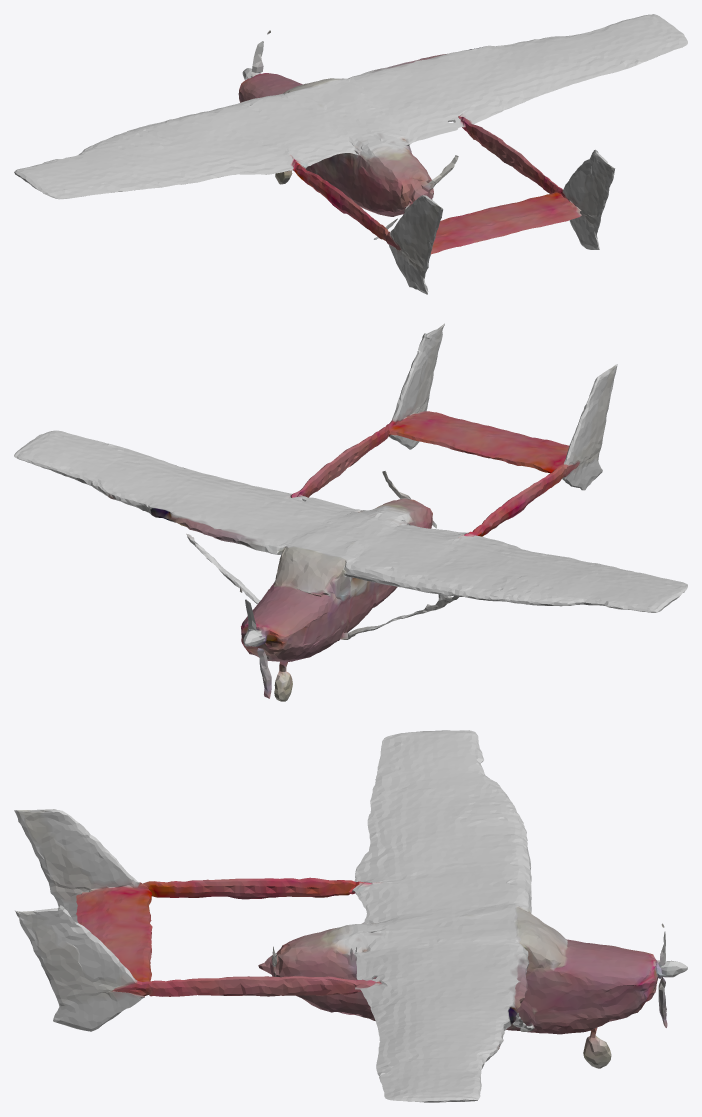
The picture shows the model from 3 angles, top to bottom: view 1: azimuth 30°, elevation 25°; view 2: azimuth 150°, elevation 25°; view 3: azimuth 270°, elevation 25°; orthographic projection. The views are drawn at different scales.
Parts seen in each view (by area): view 1: defaultobject; view 2: defaultobject; view 3: defaultobject.
Boxes of the visible parts, x1,y1,x2,y2 form: defaultobject: [14, 14, 687, 294]; defaultobject: [14, 323, 687, 701]; defaultobject: [14, 730, 687, 1102].
Size of the model in its own units: 0.9513 by 0.2535 by 0.7305.
